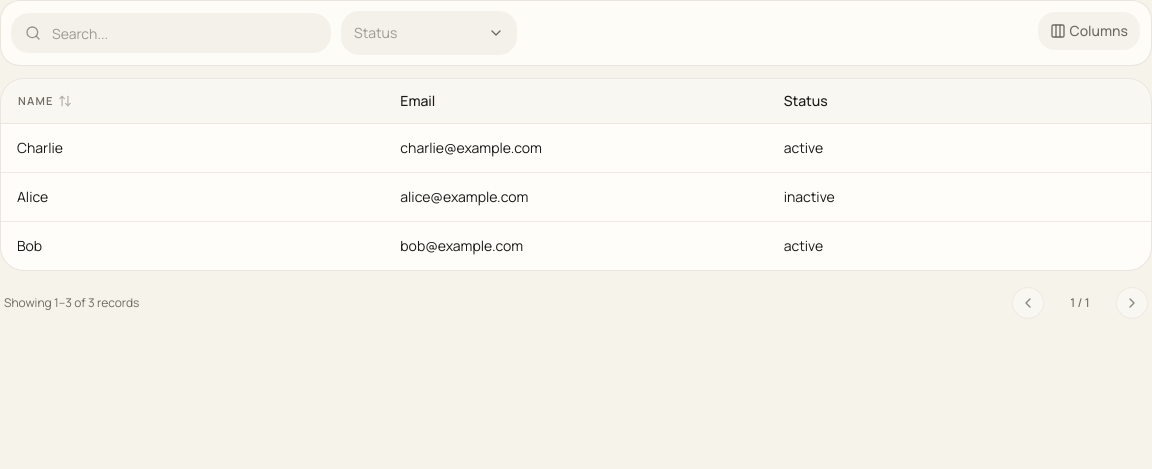
Test: DataTable › shows an empty state outside the scrollable table when no rows match
Type "does-not-exist" into the field with placeholder "Search..." at (171, 33), box [11, 13, 331, 53]
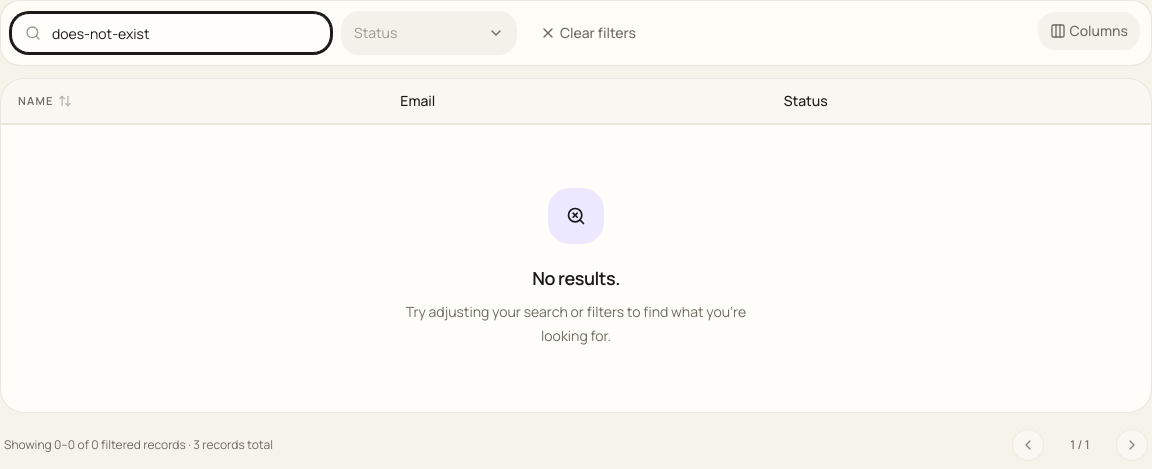
Result: the text "No results." is shown at [532, 264, 620, 292]
Result: the text "Try adjusting your search or filters to find what you're looking for." is shown at [384, 300, 768, 348]
Result: no elements with test id "name-cell" are shown
